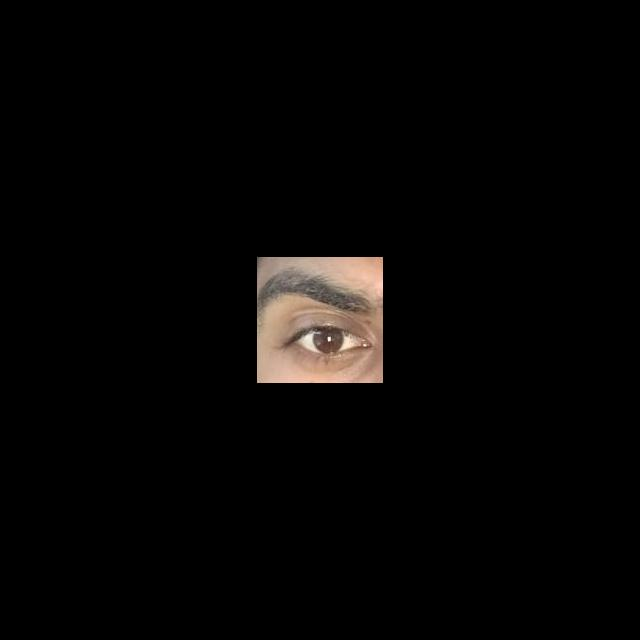eye: (295, 328, 360, 355)
iris: (313, 330, 344, 352)
